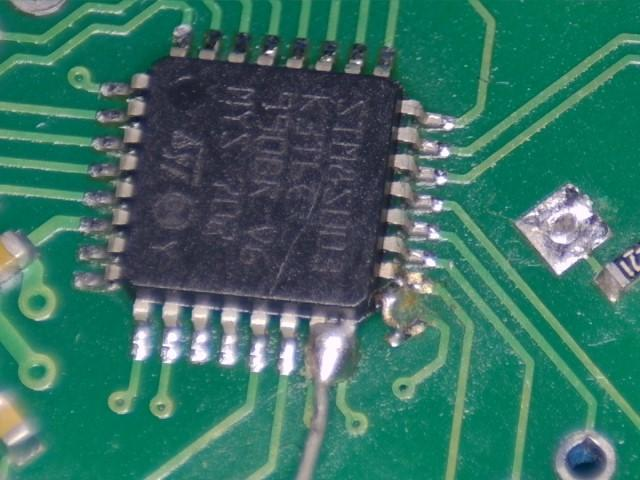Short_circuit: (515, 184, 613, 275), (307, 307, 357, 384)
